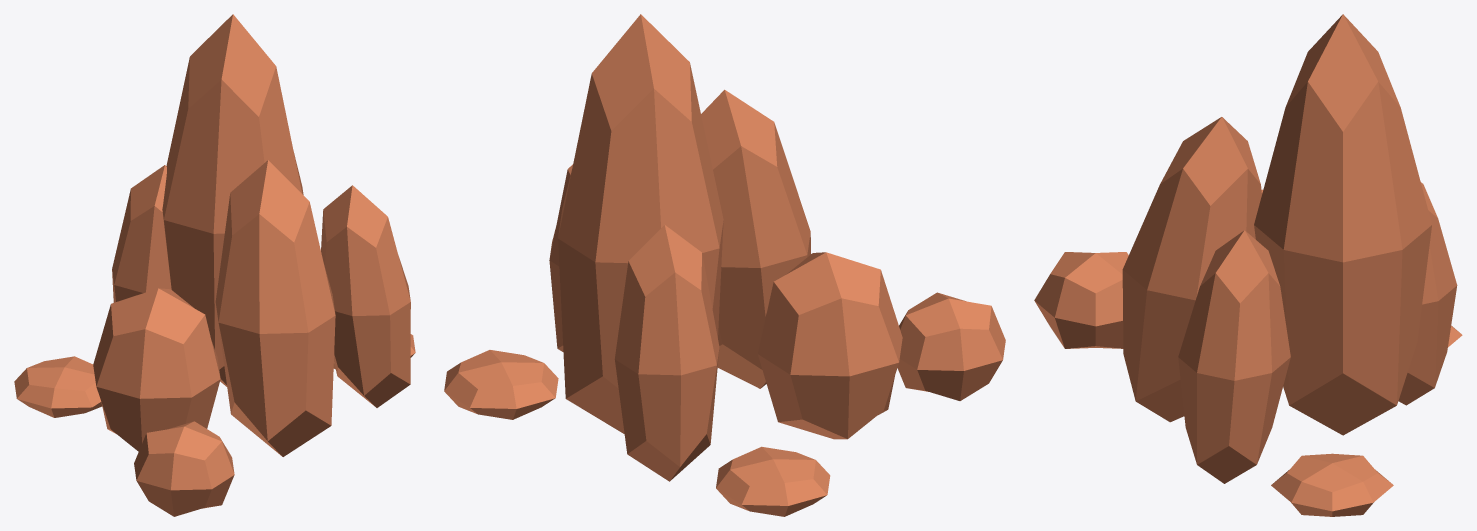
Rendered from rock01.glb.
3 renders of one model, left to right at view 1: azimuth 30°, elevation 25°; view 2: azimuth 150°, elevation 25°; view 3: azimuth 270°, elevation 25°, orthographic. The views are drawn at different scales.
Visible parts, largest first — view 1: rock_01; view 2: rock_01; view 3: rock_01.
Boxes of the visible parts, x1,y1,x2,y2 form: rock_01: (14, 14, 415, 516); rock_01: (444, 14, 1005, 516); rock_01: (1034, 14, 1462, 516).
Bounding box in the file's own units: 3.31 × 3.14 × 2.88.
Materials: 1 (1 with a texture image).
